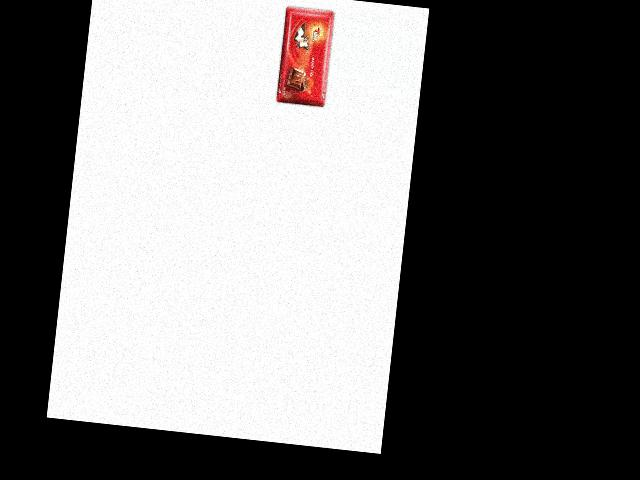chocolate: (272, 0, 335, 108)
